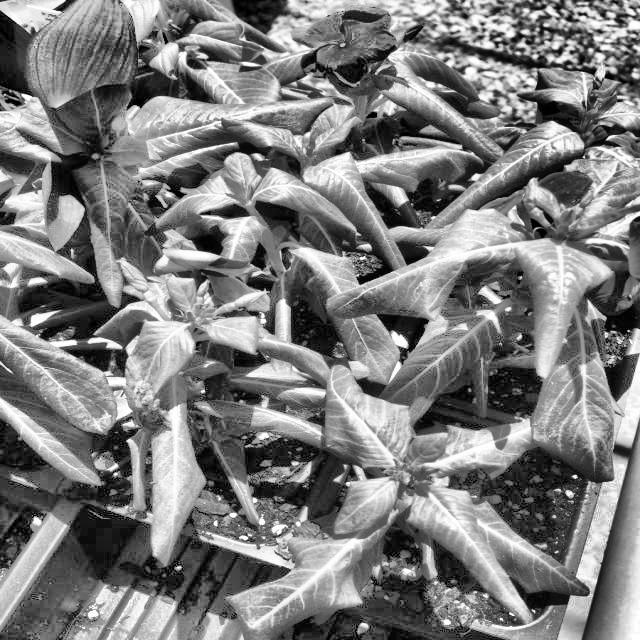plants: (0, 0, 639, 639), (404, 486, 594, 624), (246, 162, 418, 276), (507, 229, 607, 382), (107, 315, 200, 423)
